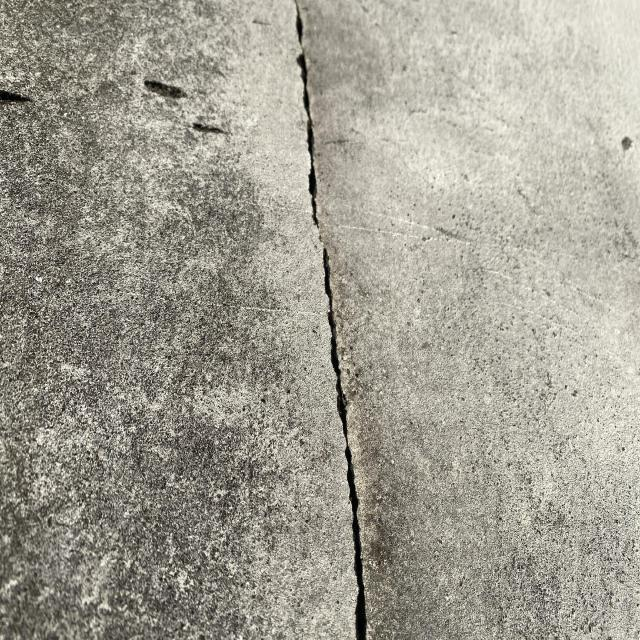SurfaceCrack: (247, 0, 402, 639)
